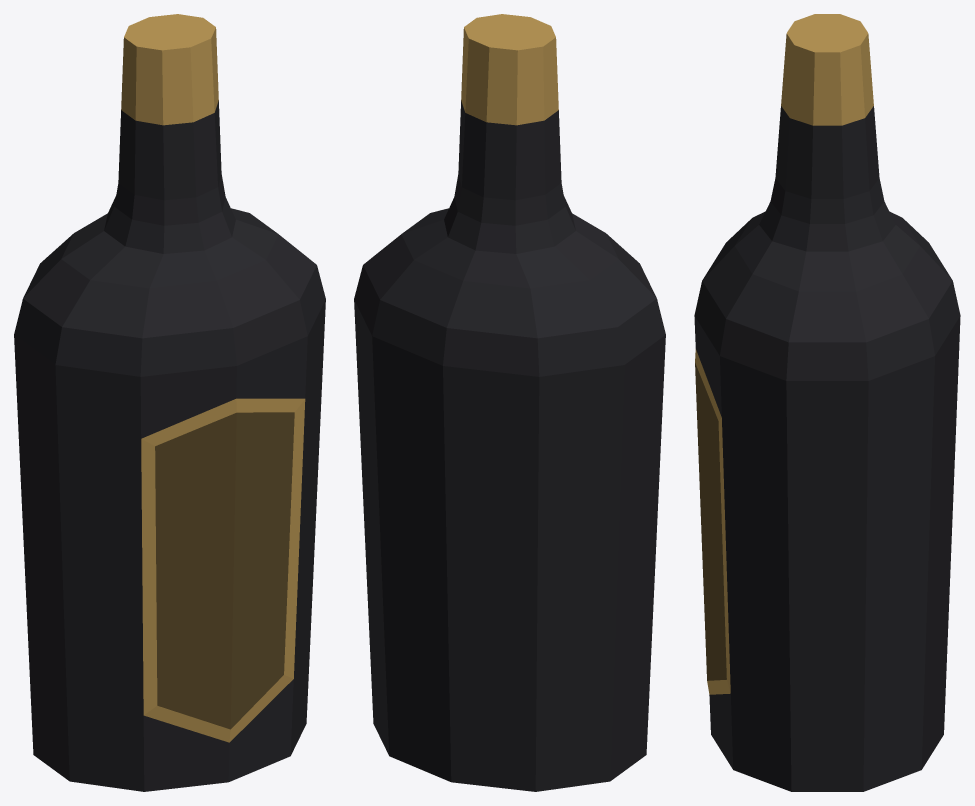
The model's file is Whisky_Bottle_03.fbx.
The picture shows the model from 3 angles, left to right: view 1: azimuth 30°, elevation 25°; view 2: azimuth 150°, elevation 25°; view 3: azimuth 270°, elevation 25°; orthographic projection.
Parts seen in each view (by area): view 1: Whisky_BottleGlass_03; view 2: Whisky_BottleGlass_03; view 3: Whisky_BottleGlass_03.
Boxes of the visible parts, left/top/right/bottom form: Whisky_BottleGlass_03: left=14, top=14, right=325, bottom=791; Whisky_BottleGlass_03: left=354, top=14, right=665, bottom=791; Whisky_BottleGlass_03: left=694, top=14, right=960, bottom=791.
Size of the model in its own units: 0.1088 by 0.2718 by 0.0934.
